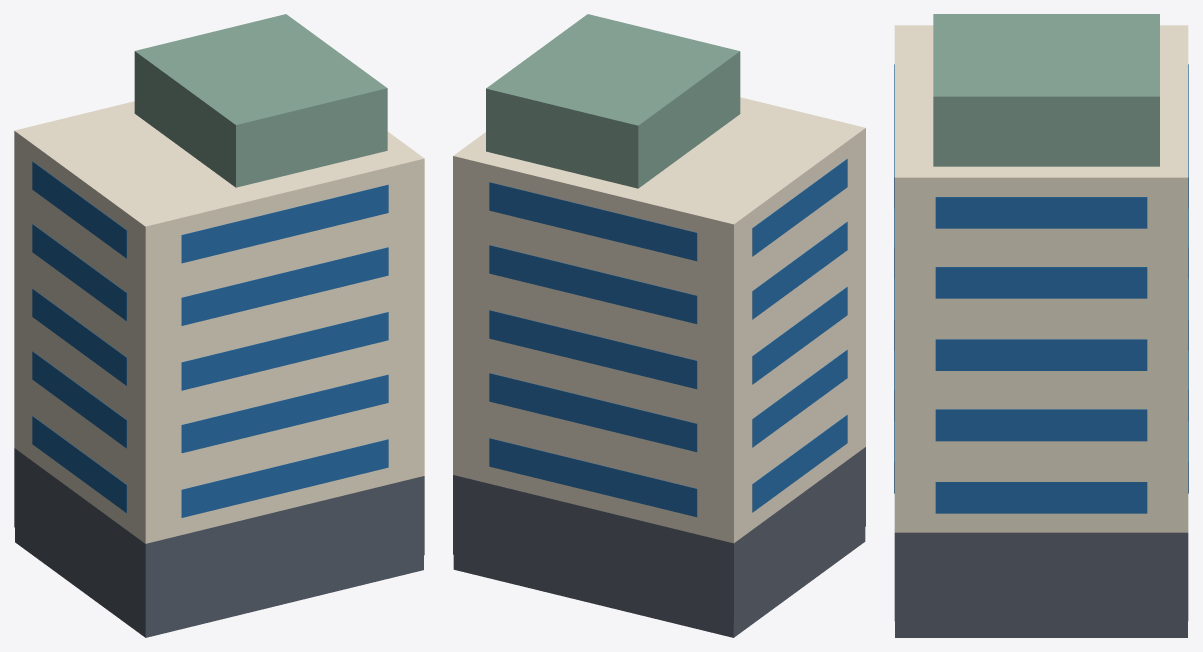
File: 02b_modern_setback-lod2.glb
3 renders of one model, left to right at view 1: azimuth 30°, elevation 25°; view 2: azimuth 150°, elevation 25°; view 3: azimuth 270°, elevation 25°, orthographic. The views are drawn at different scales.
Visible parts, largest first — view 1: LOD2_02b_modern_setback; view 2: LOD2_02b_modern_setback; view 3: LOD2_02b_modern_setback.
Part boxes in pixels (x1=…): LOD2_02b_modern_setback: x1=14, y1=14, x2=424, y2=637; LOD2_02b_modern_setback: x1=453, y1=14, x2=865, y2=637; LOD2_02b_modern_setback: x1=894, y1=14, x2=1188, y2=637.
Bounding box in the file's own units: 14.04 × 22.72 × 11.44.
Materials: 2 (2 with a texture image).
